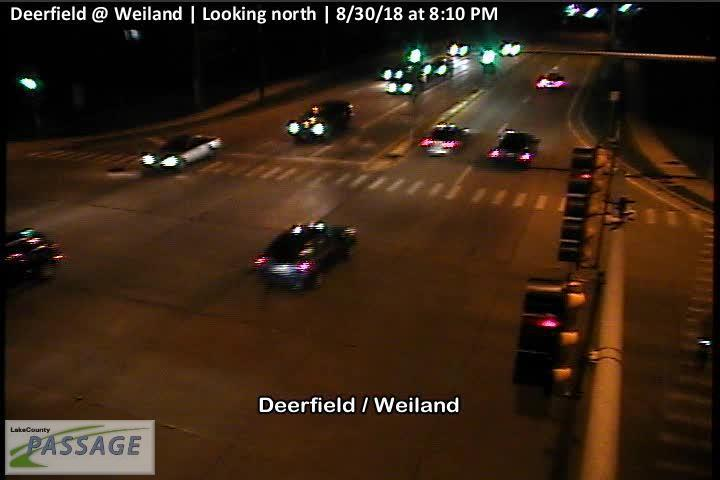SUV: (255, 221, 358, 292), (1, 228, 64, 290), (141, 133, 224, 173), (288, 100, 352, 143)
Sedan: (491, 131, 541, 166), (422, 124, 469, 159), (537, 74, 567, 91)
